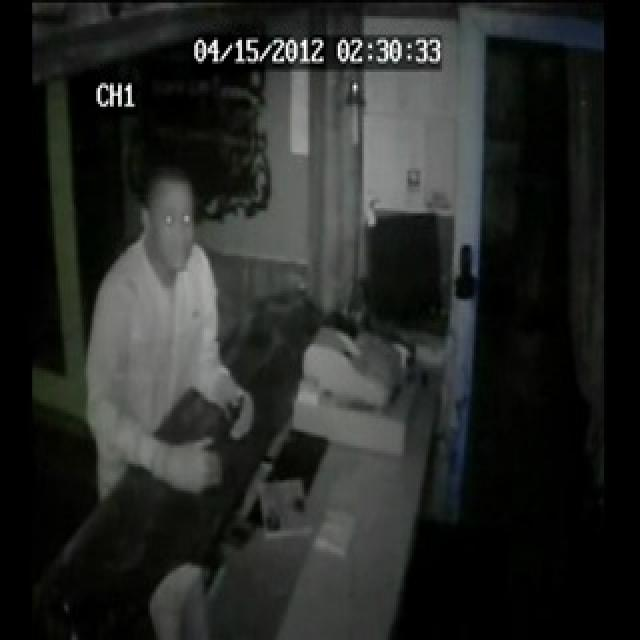thief: (102, 142, 225, 289)
